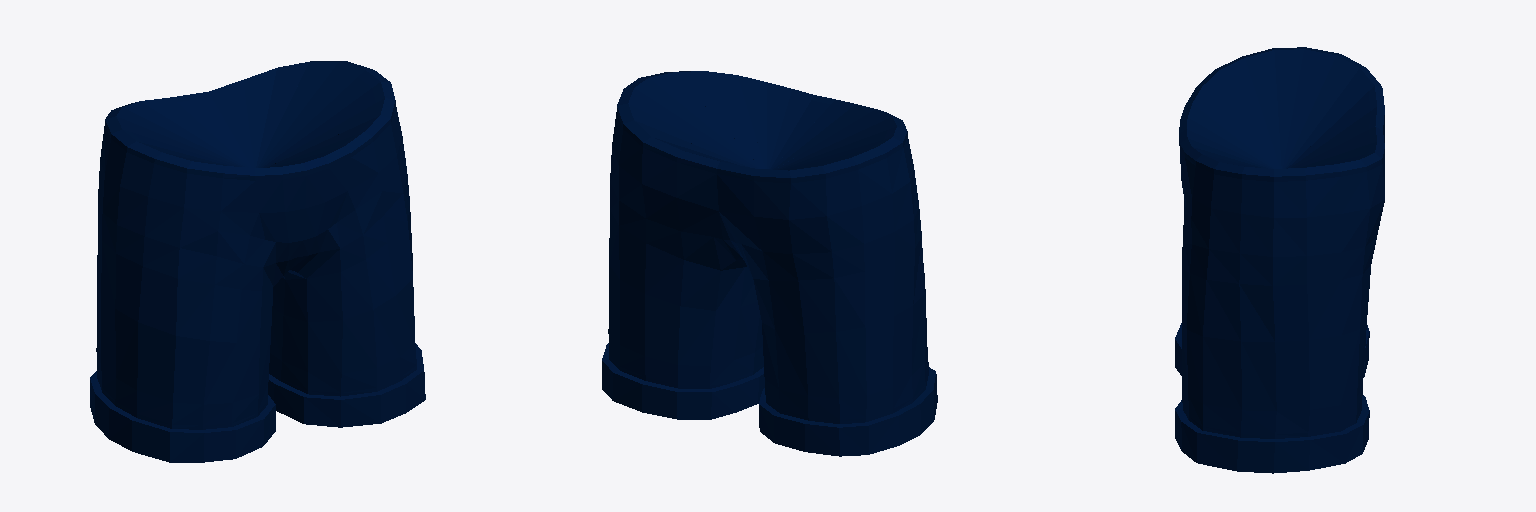
Rendered from pants01.obj.
3 views of the same model, side by side, from view 1: azimuth 30°, elevation 25°; view 2: azimuth 150°, elevation 25°; view 3: azimuth 270°, elevation 25° (orthographic).
Visible parts, largest first — view 1: polySurface1 boy; view 2: polySurface1 boy; view 3: polySurface1 boy.
Part boxes in pixels (left/top/right/bottom): polySurface1 boy: left=90, top=61, right=425, bottom=462; polySurface1 boy: left=602, top=71, right=937, bottom=456; polySurface1 boy: left=1175, top=47, right=1384, bottom=473.
Size of the model in its own units: 0.166 by 0.1557 by 0.1007.